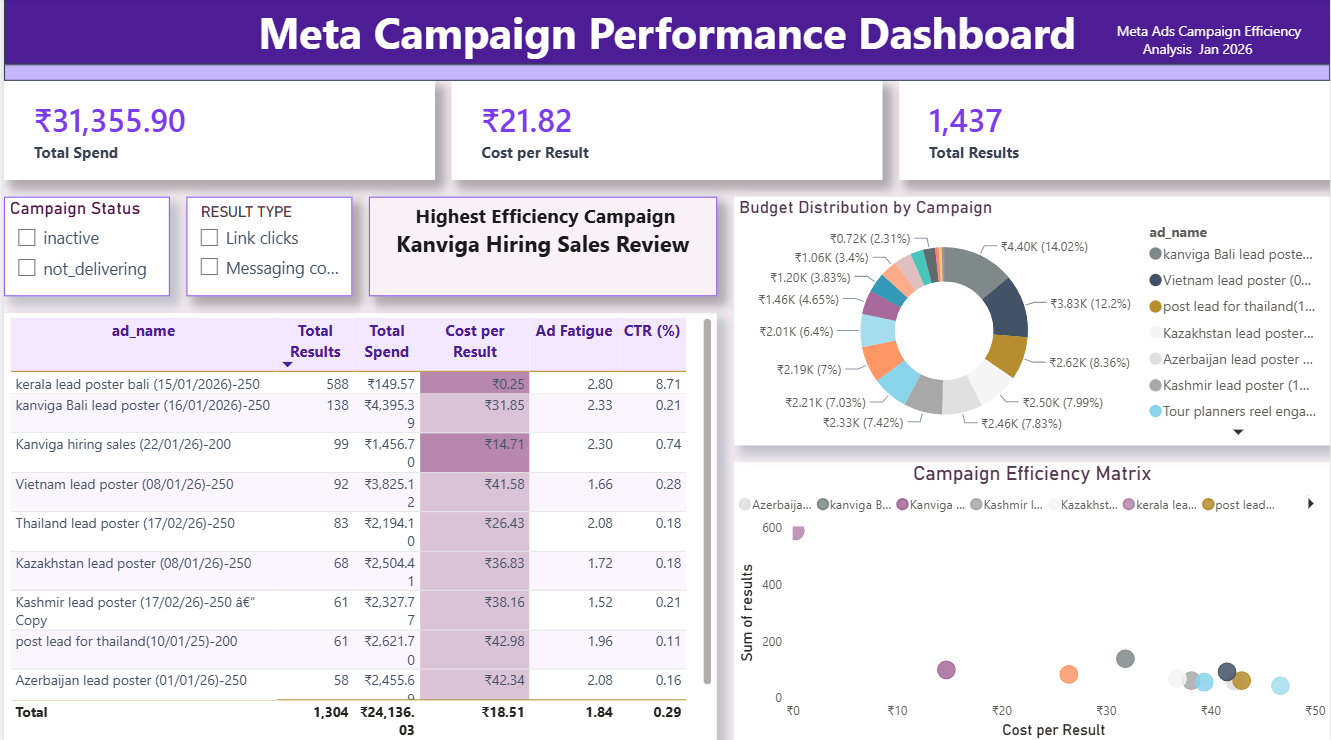

The page's visual inventory and layout, read from the dashboard file:
{"tool":"powerbi","page":{"name":"Meta","canvas":[1280,720],"ordinal":2},"visuals":[{"type":"cardVisual","fields":{"Data":["meta_ads.Total Spend"]},"box":[0,80,416,96],"z":0},{"type":"cardVisual","fields":{"Data":["meta_ads.Total Results"]},"box":[864,80,416,96],"z":1000},{"type":"cardVisual","fields":{"Data":["meta_ads.Overall Cost per Result"]},"box":[432,80,416,96],"z":2000},{"type":"tableEx","fields":{"Values":["meta_ads.ad_name","meta_ads.Total Results","meta_ads.Total Spend","meta_ads.Overall Cost per Result","meta_ads.Ad Fatigue","meta_ads.CTR (%)"]},"box":[0,304,688,416],"z":3000},{"type":"slicer","fields":{"Values":["meta_ads.result_type"]},"box":[176,192,160,96],"z":4000},{"type":"shape","box":[0,0,1280,64],"z":5000},{"type":"textbox","box":[352,192,336,96],"z":6000},{"type":"shape","box":[0,64,1280,16],"z":7000},{"type":"scatterChart","title":"Campaign Efficiency Matrix","fields":{"Series":["meta_ads.ad_name"],"X":["meta_ads.Overall Cost per Result"],"Y":["Sum(meta_ads.results)"]},"box":[704,448,576,272],"z":8000},{"type":"donutChart","title":"Budget Distribution by Campaign","fields":{"Category":["meta_ads.ad_name"],"Y":["meta_ads.Total Spend"]},"box":[704,192,576,240],"z":9000},{"type":"slicer","title":"Campaign Status","fields":{"Values":["meta_ads.delivery_status"]},"box":[0,192,160,96],"z":10000},{"type":"textbox","box":[1040,0,224,64],"z":11000}]}

Visuals, with their boxes in screenshot pixels (x1, y1, x2, y2), scaled from the page's 1280x720 canvas onto the 1331x740 screenshot:
cardVisual - meta_ads.Total Spend: 0 82 433 181
cardVisual - meta_ads.Total Results: 898 82 1330 181
cardVisual - meta_ads.Overall Cost per Result: 449 82 882 181
tableEx - meta_ads.ad_name x meta_ads.Total Results: 0 312 715 739
slicer - meta_ads.result_type: 183 197 349 296
shape: 0 0 1330 66
textbox: 366 197 715 296
shape: 0 66 1330 82
"Campaign Efficiency Matrix" scatterChart: 732 460 1330 739
"Budget Distribution by Campaign" donutChart: 732 197 1330 444
"Campaign Status" slicer: 0 197 166 296
textbox: 1081 0 1314 66
